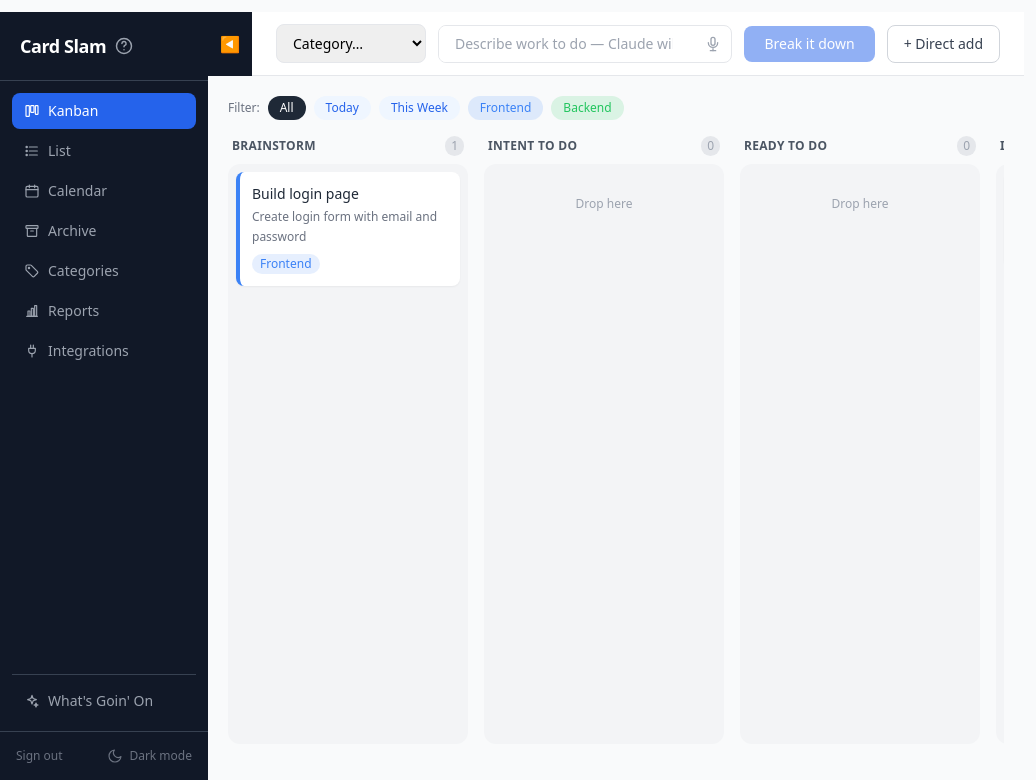
Test: Layout sidebar › clicking toggle again re-shows the sidebar nav links
Click the button named "toggle sidebar". click: click(230, 44)
box: [208,12,252,76]
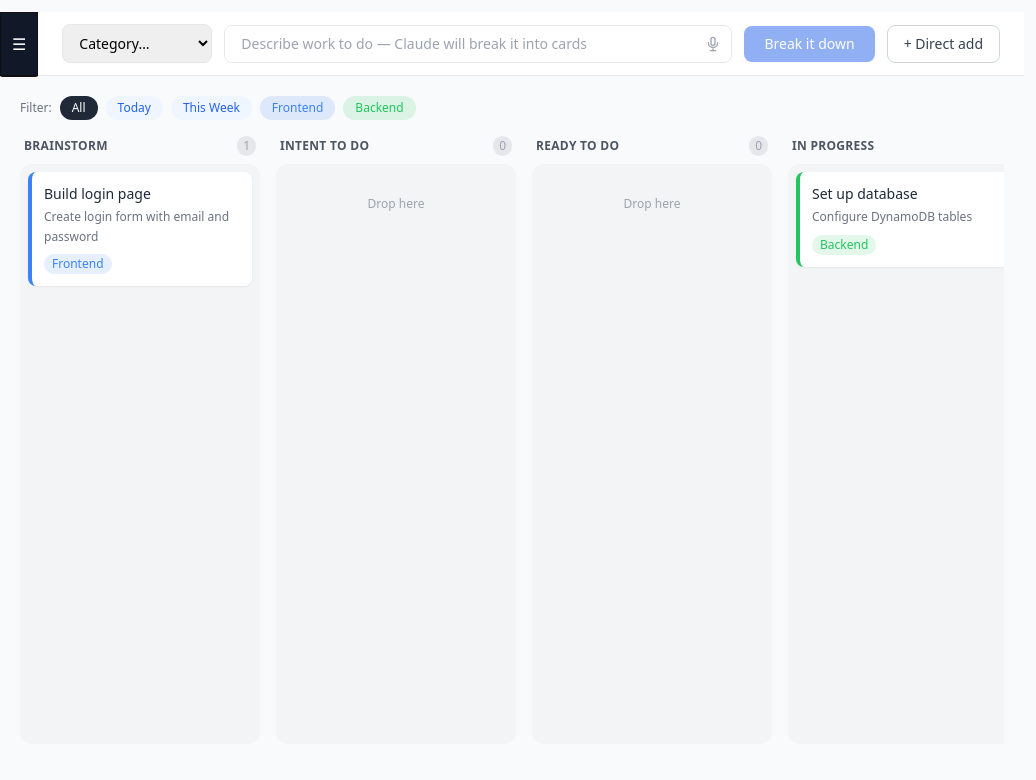
Click the button named "toggle sidebar". click: click(19, 44)
box: [0,12,38,76]
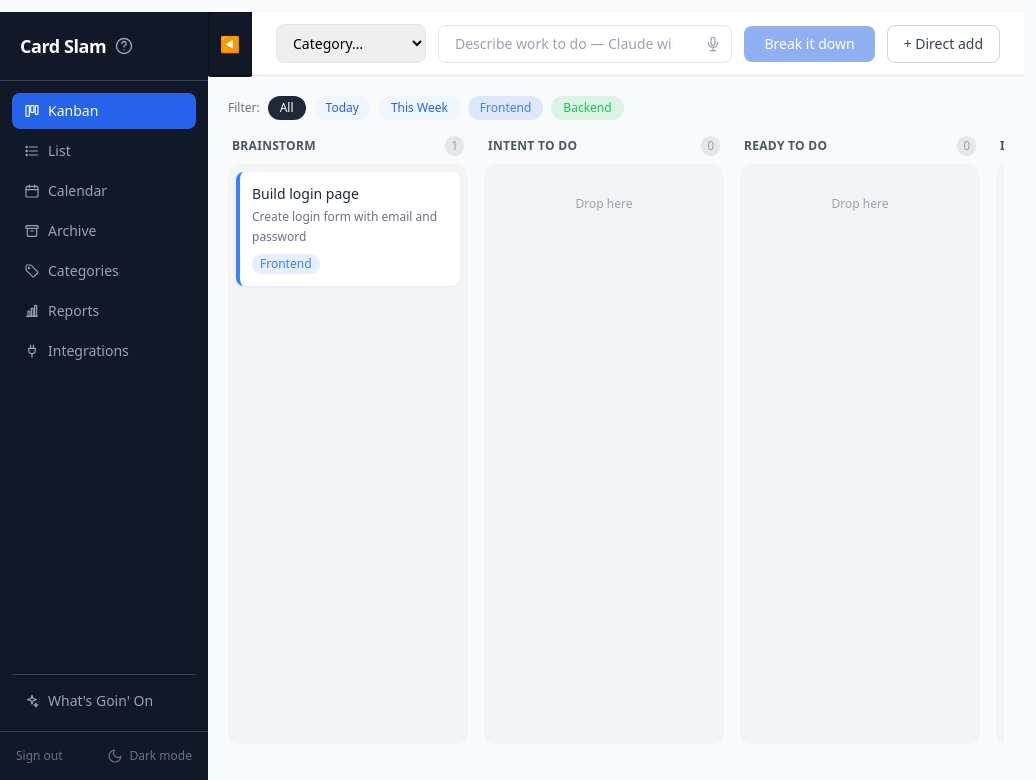
Check: the link "Kanban" is shown, box [12,93,196,129]
